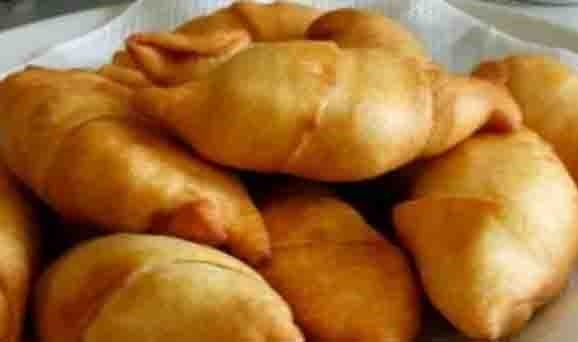pisang_molen: (126, 40, 522, 182)
